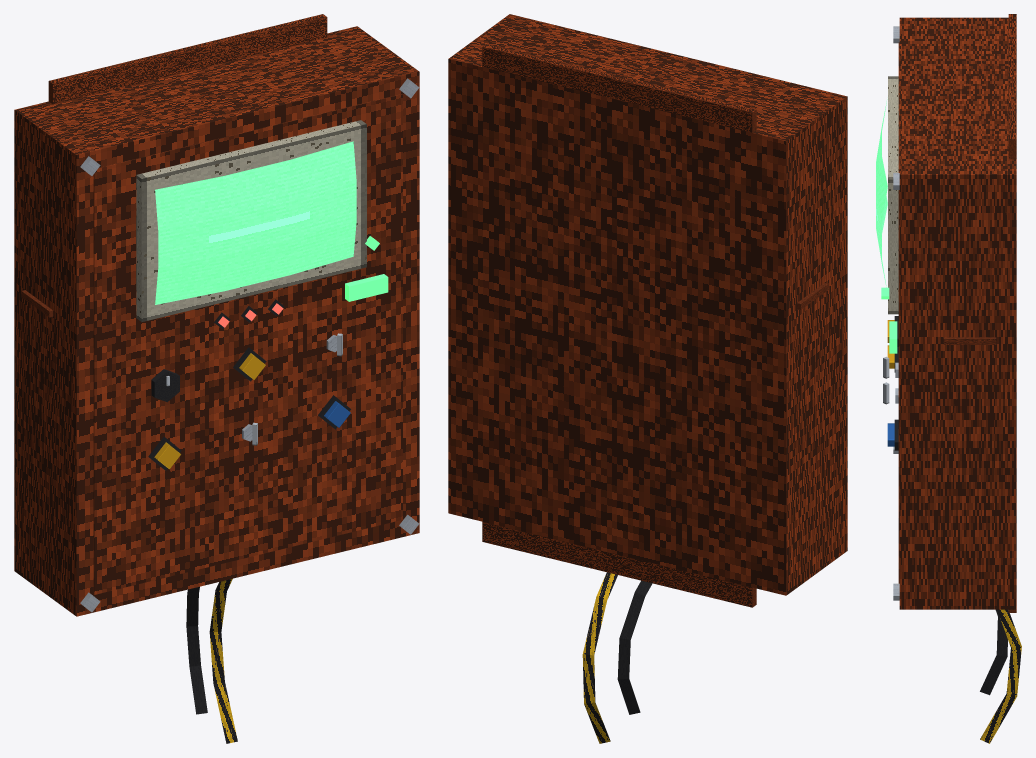
The model's file is electrical_panel_derelict_decay.glb.
3 views of the same model, side by side, from view 1: azimuth 30°, elevation 25°; view 2: azimuth 150°, elevation 25°; view 3: azimuth 270°, elevation 25° (orthographic). The views are drawn at different scales.
Visible parts, largest first — view 1: electrical_panel_derelict_decay; view 2: electrical_panel_derelict_decay; view 3: electrical_panel_derelict_decay.
Boxes of the visible parts, x1,y1,x2,y2 form: electrical_panel_derelict_decay: [14, 14, 419, 743]; electrical_panel_derelict_decay: [448, 14, 847, 743]; electrical_panel_derelict_decay: [876, 14, 1021, 743].
Size of the model in its own units: 0.716 by 1.35 by 0.2739.
14 materials, 14 textured.
